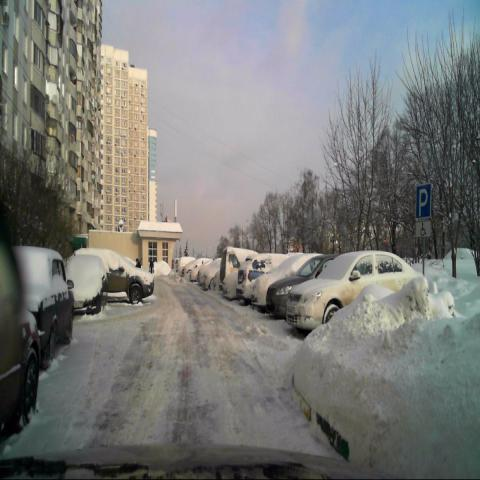8_17: (416, 220, 432, 236)
